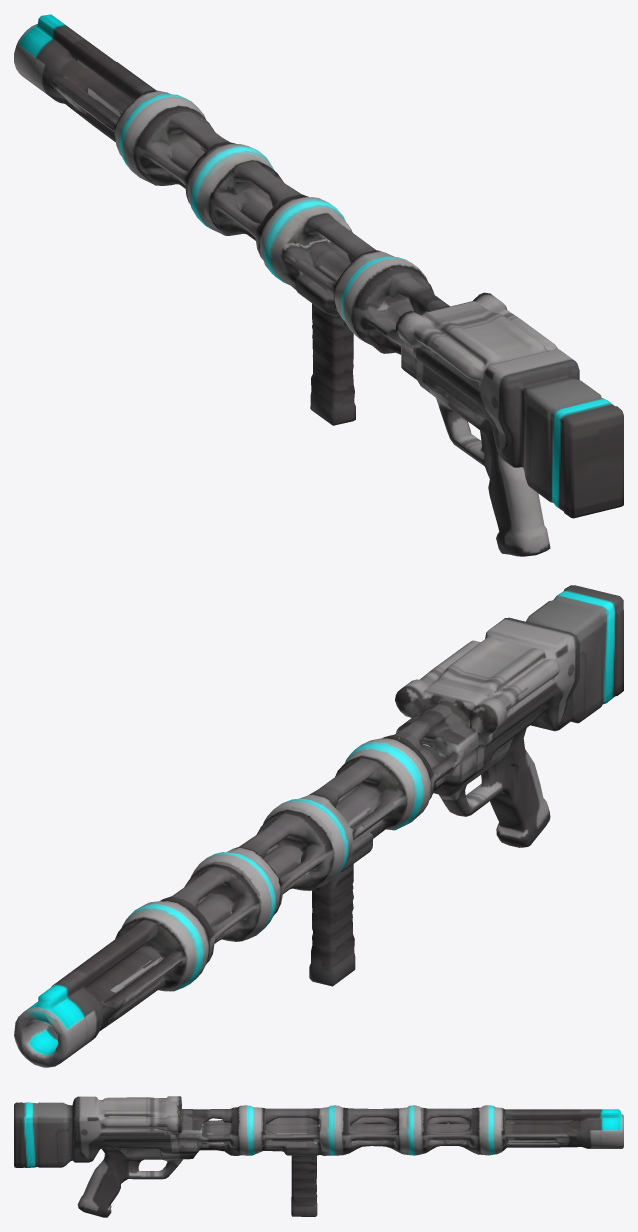
File: rail.glb
The picture shows the model from 3 angles, top to bottom: view 1: azimuth 30°, elevation 25°; view 2: azimuth 150°, elevation 25°; view 3: azimuth 270°, elevation 25°; orthographic projection. The views are drawn at different scales.
Parts seen in each view (by area): view 1: low; view 2: low; view 3: low.
Boxes of the visible parts, bbox=[...] form: low: bbox=[14, 14, 623, 556]; low: bbox=[14, 585, 623, 1067]; low: bbox=[14, 1096, 623, 1217].
Bounding box in the file's own units: 0.0751 × 0.1442 × 0.7199.
1 material, 1 textured.
